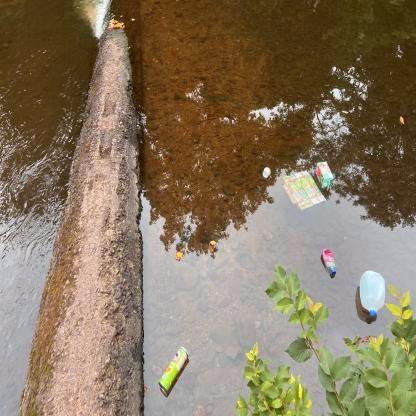Metal: (154, 342, 192, 398)
Plastic: (354, 266, 388, 317), (320, 245, 338, 281)
Trash: (262, 165, 272, 180)
